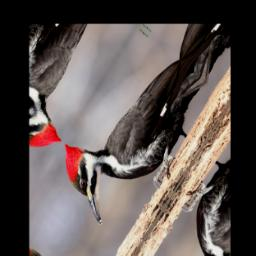Woodpecker: (43, 26, 219, 247)
